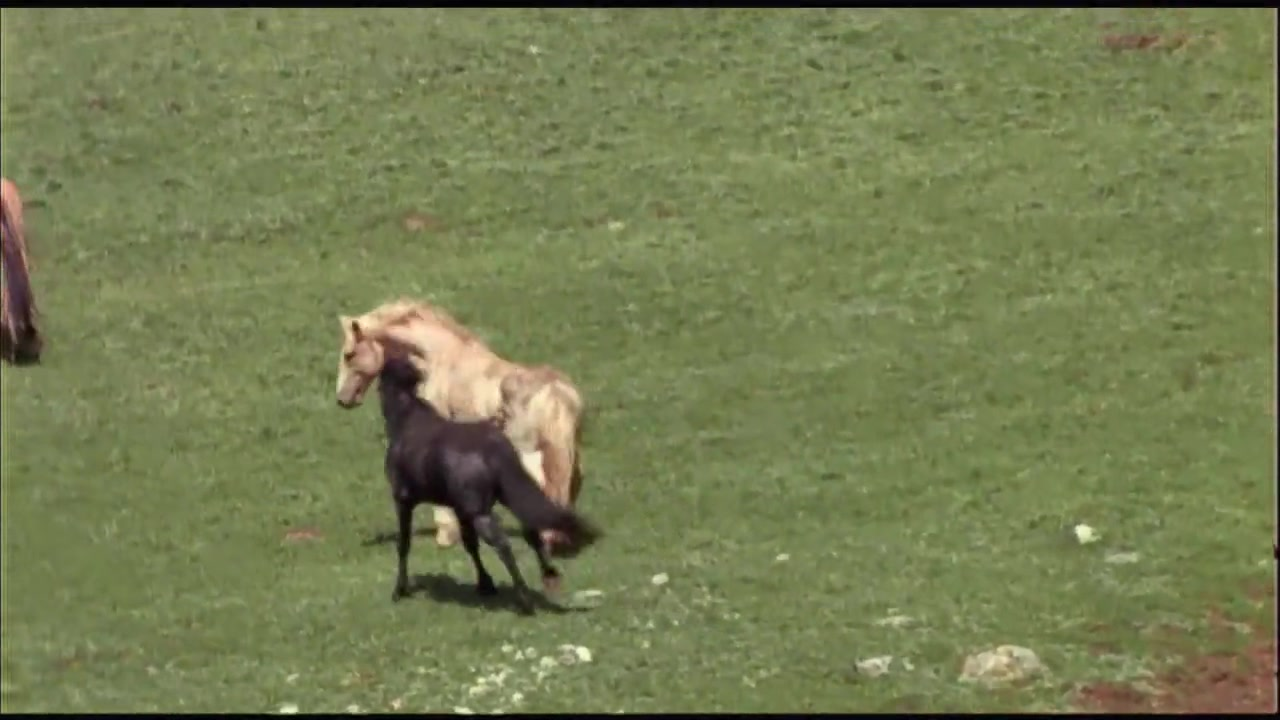horse: (378, 358, 600, 614)
